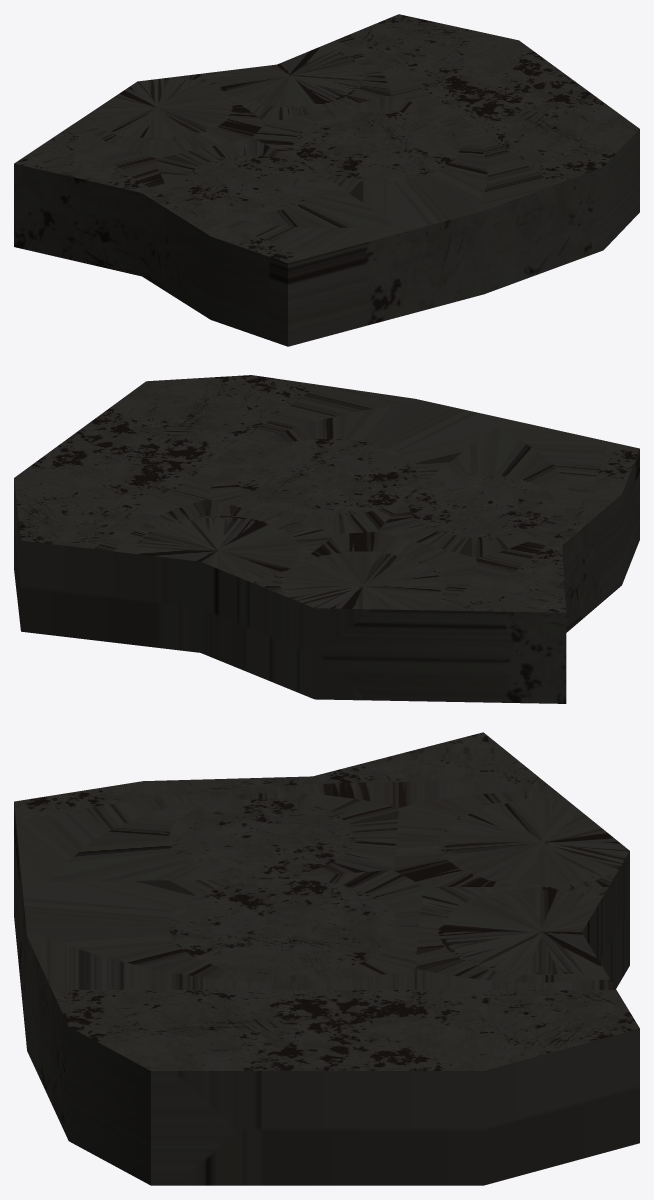
Rendered from Rubble03.FBX.
3 renders of one model, top to bottom at view 1: azimuth 30°, elevation 25°; view 2: azimuth 150°, elevation 25°; view 3: azimuth 270°, elevation 25°, orthographic. The views are drawn at different scales.
Visible parts, largest first — view 1: Plane039; view 2: Plane039; view 3: Plane039.
Boxes of the visible parts, x1=… form: Plane039: x1=14, y1=14, x2=639, y2=346; Plane039: x1=14, y1=375, x2=639, y2=703; Plane039: x1=14, y1=732, x2=639, y2=1185.
Size of the model in its own units: 9506 by 1500 by 7423.
